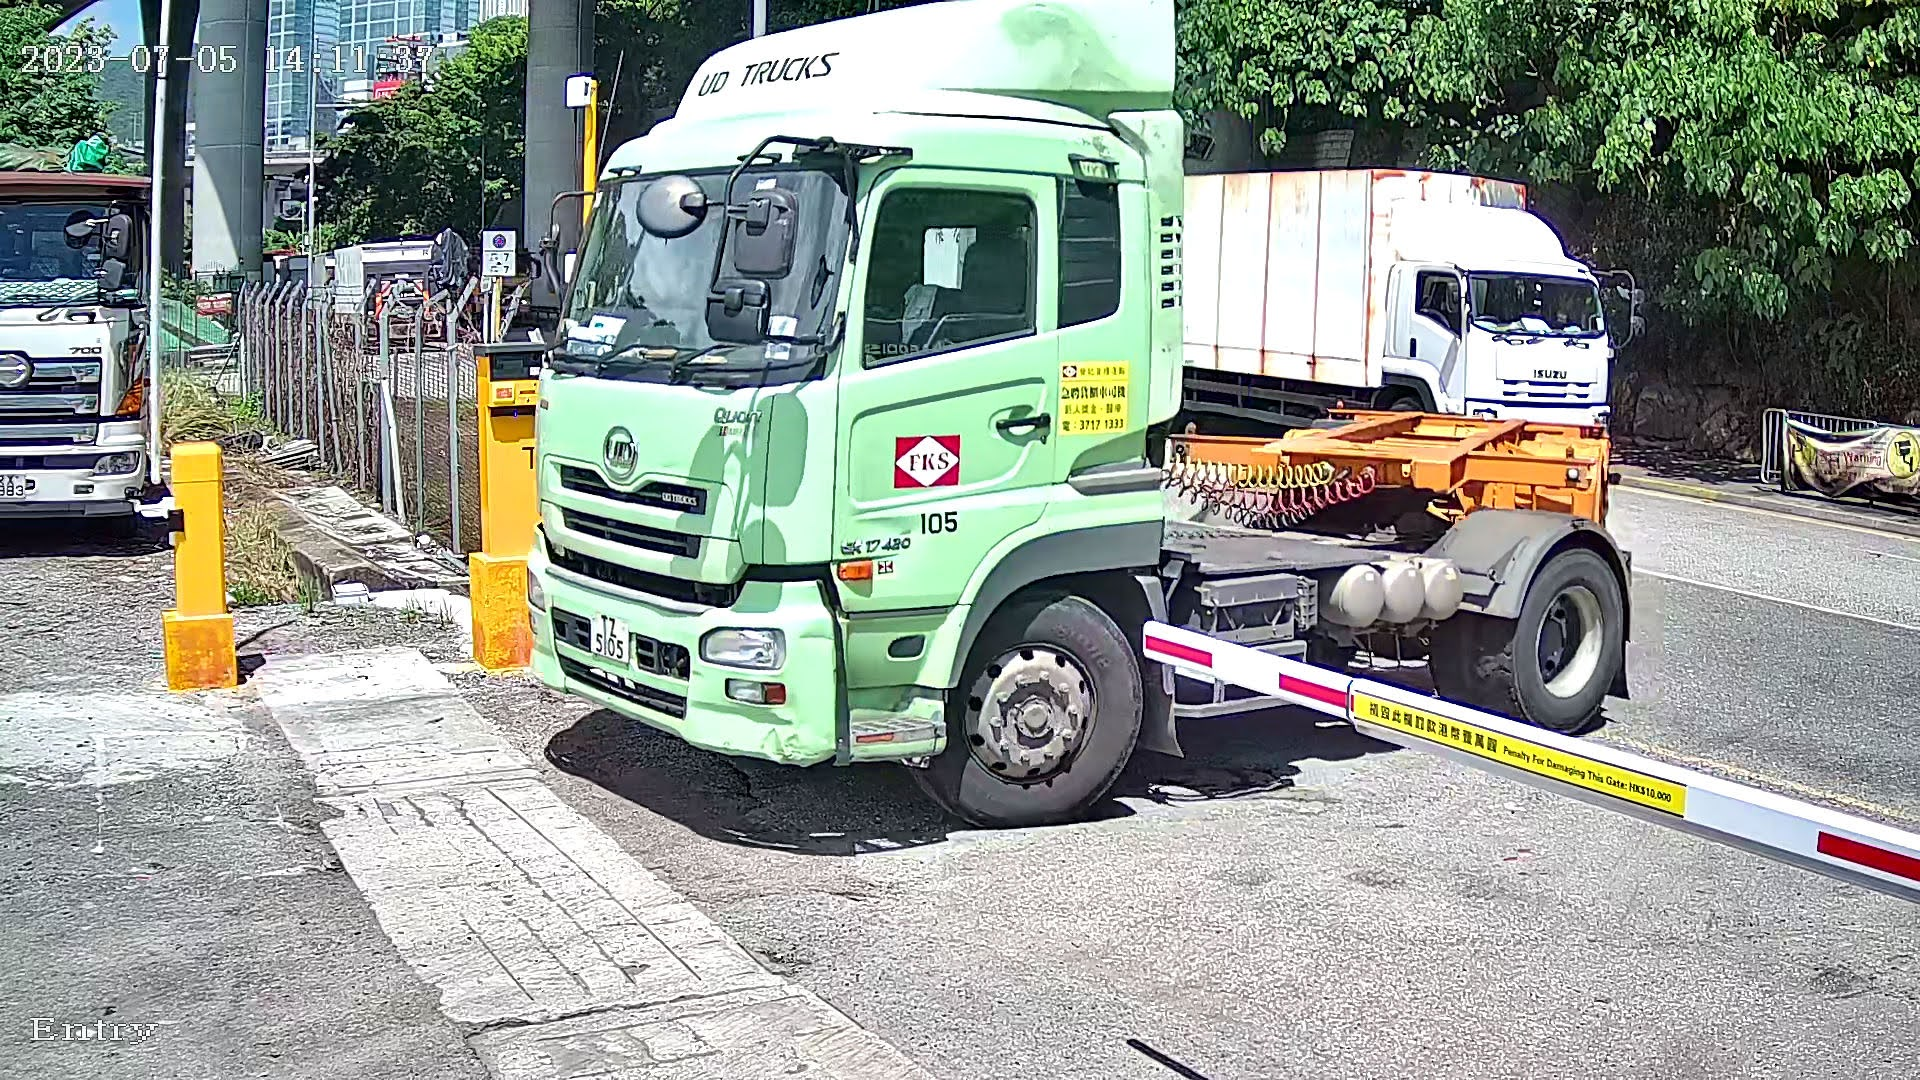tractor: (500, 1, 1698, 895)
